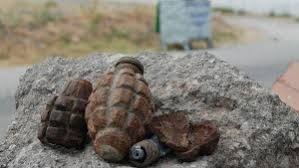e1: (89, 56, 152, 162), (37, 80, 89, 154)
